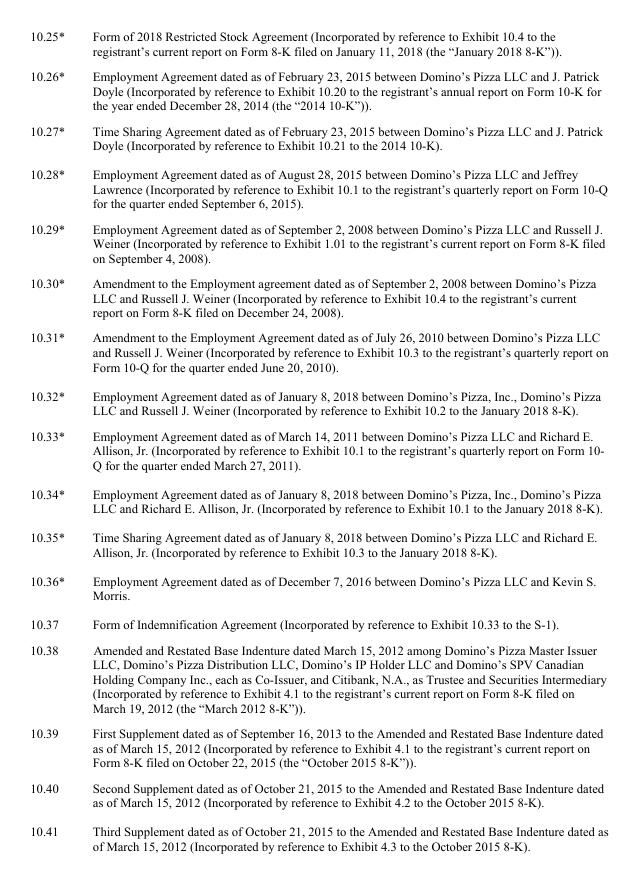table: (29, 28, 607, 852)
table column: (77, 28, 607, 852), (29, 28, 77, 852)
table row: (29, 636, 607, 720), (29, 159, 607, 215), (29, 324, 607, 380), (29, 422, 607, 478), (29, 215, 607, 270), (29, 63, 607, 117), (29, 270, 607, 324), (29, 720, 607, 774), (29, 478, 607, 522), (29, 565, 607, 609), (29, 522, 607, 565), (29, 117, 607, 159), (29, 380, 607, 422), (29, 774, 607, 816), (29, 816, 607, 852), (29, 28, 607, 63), (29, 609, 607, 636)
